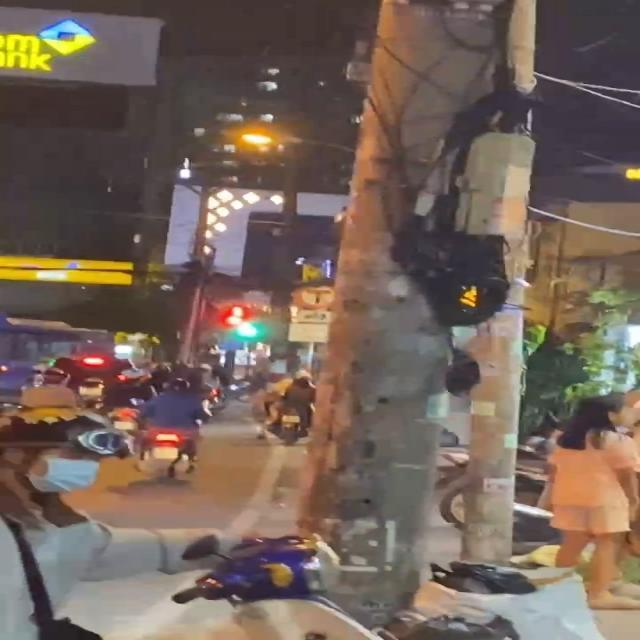137-cam-re-trai-va-re-phai: (290, 282, 340, 312)
